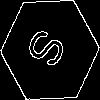S: (25, 25, 75, 76)
